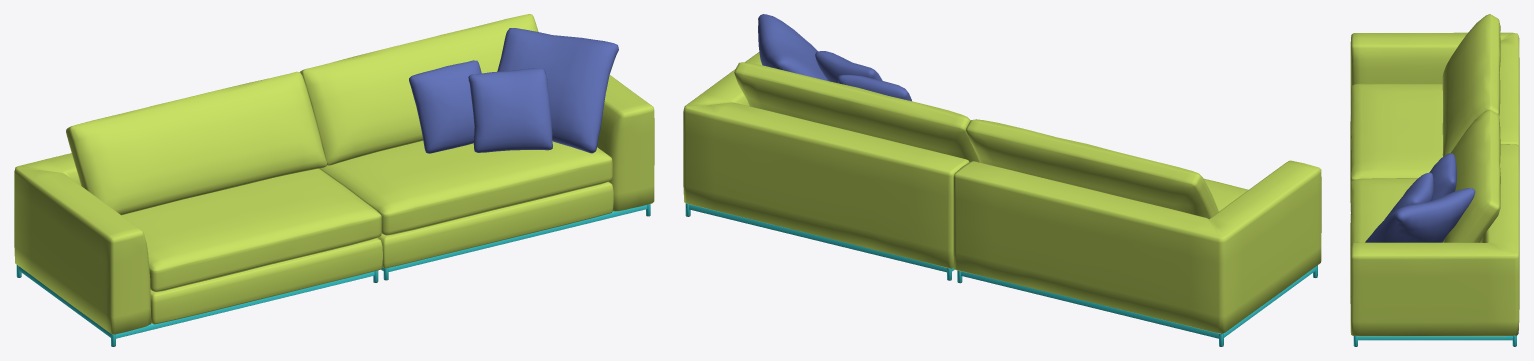
File: House_Sofa.FBX
3 renders of one model, left to right at view 1: azimuth 30°, elevation 25°; view 2: azimuth 150°, elevation 25°; view 3: azimuth 270°, elevation 25°, orthographic. The views are drawn at different scales.
Visible parts, largest first — view 1: House_Sofa_Cloth, House_Sofa_Pillows, House_Sofa_Legs; view 2: House_Sofa_Cloth, House_Sofa_Pillows, House_Sofa_Legs; view 3: House_Sofa_Cloth, House_Sofa_Pillows, House_Sofa_Legs.
Boxes of the visible parts, x1=… form: House_Sofa_Cloth: x1=14, y1=14, x2=654, y2=334; House_Sofa_Pillows: x1=409, y1=28, x2=618, y2=153; House_Sofa_Legs: x1=16, y1=204, x2=650, y2=346; House_Sofa_Cloth: x1=683, y1=43, x2=1321, y2=333; House_Sofa_Pillows: x1=758, y1=14, x2=911, y2=101; House_Sofa_Legs: x1=685, y1=203, x2=1317, y2=346; House_Sofa_Cloth: x1=1350, y1=14, x2=1519, y2=336; House_Sofa_Pillows: x1=1365, y1=153, x2=1475, y2=242; House_Sofa_Legs: x1=1353, y1=335, x2=1516, y2=346.
Size of the model in its own units: 308 by 84.12 by 98.65.
